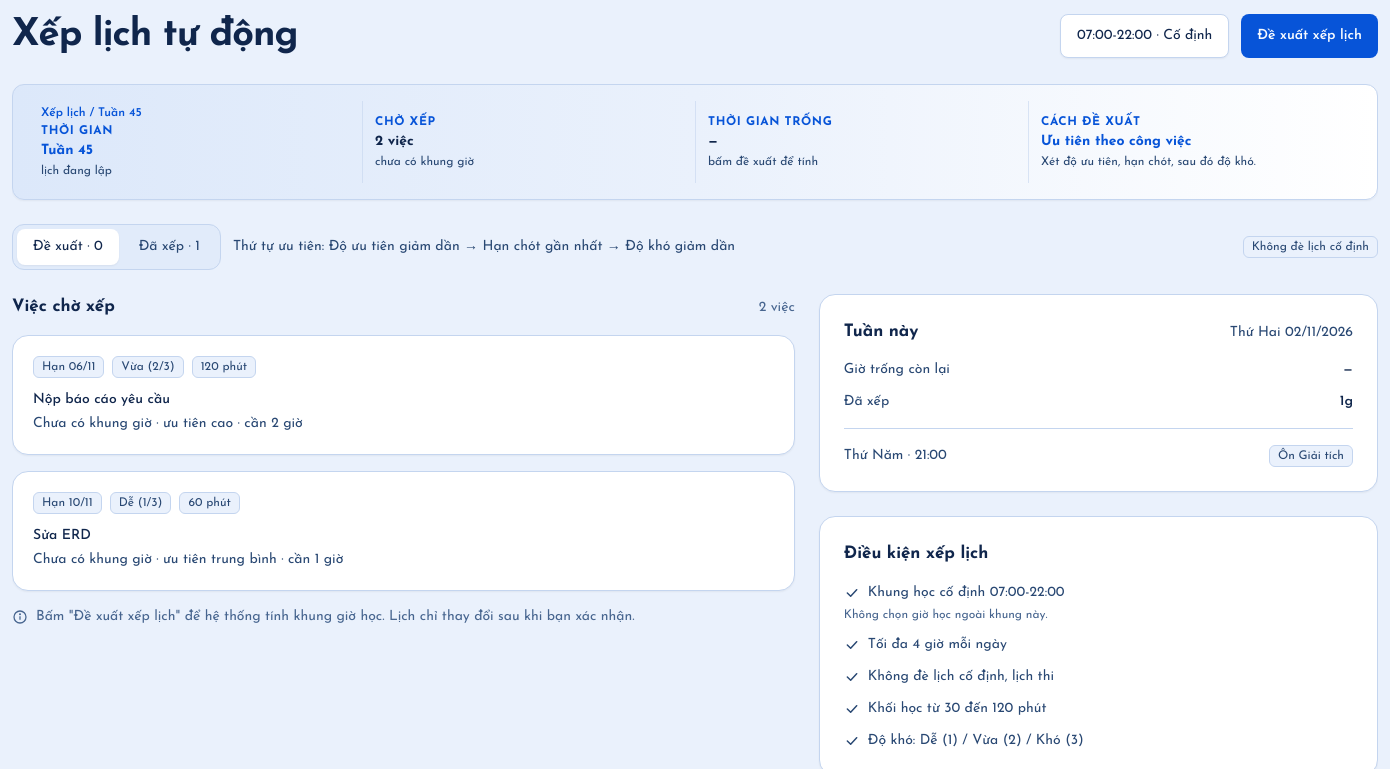
Test: SchedulerPage (TV3, Issue #146) › bấm vào thẻ thì mở panel Chi tiết đề xuất; đóng bằng nút X hoặc Esc
Check: the text "2 việc" in the row of "Việc chờ xếp" is shown, box [759, 298, 795, 318]
Click the button "Đề xuất xếp lịch" at {"x": 1310, "y": 36}, box [1241, 14, 1378, 58]
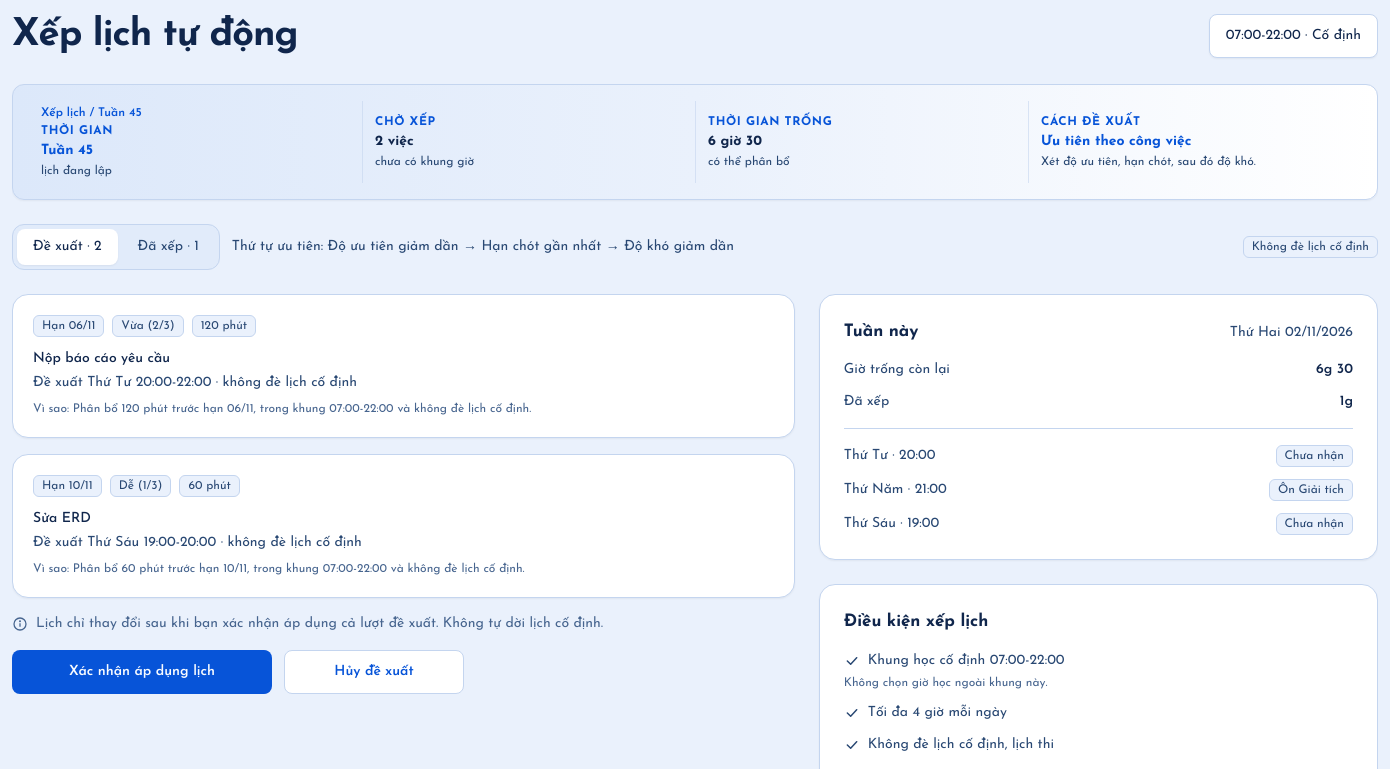
Click the button "Nộp báo cáo yêu cầu" at {"x": 69, "y": 326}, box [12, 294, 795, 438]
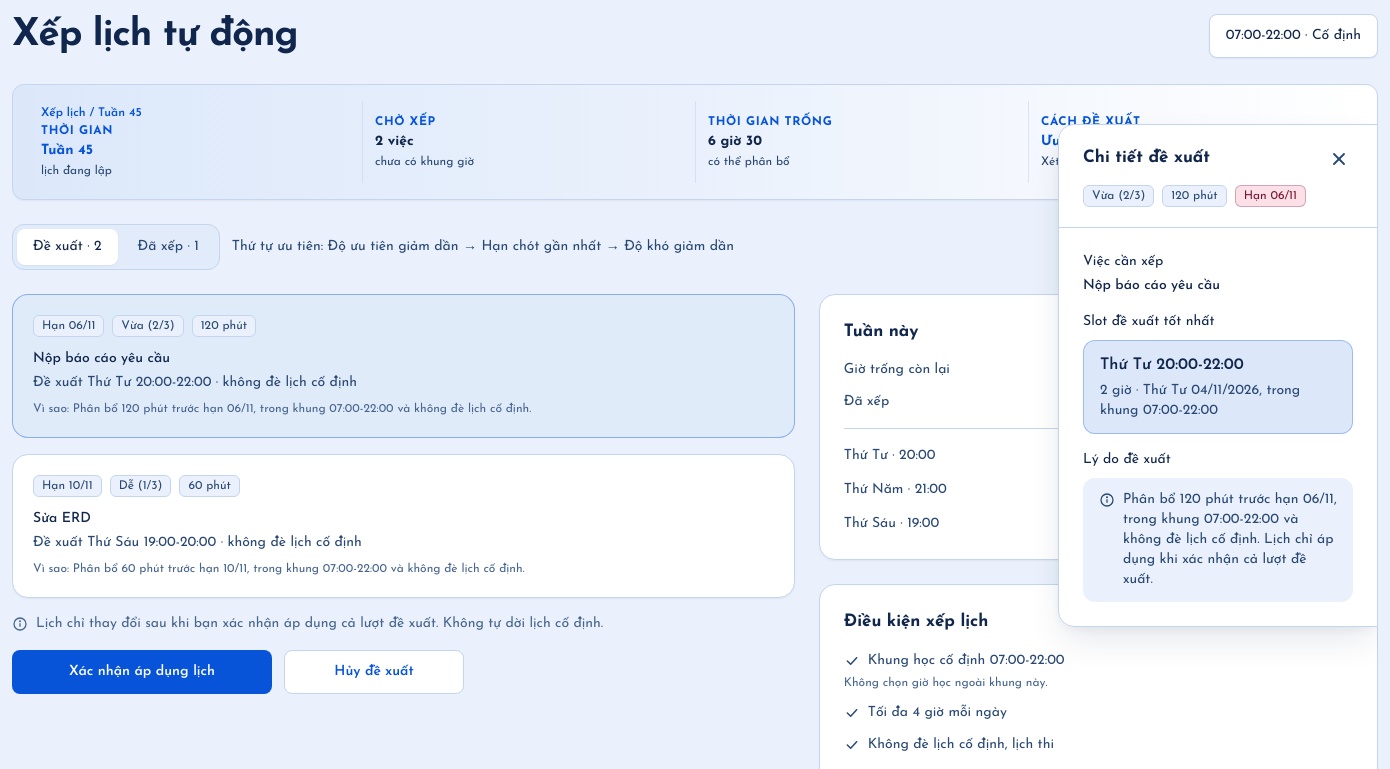
Check: the text "Thứ Tư 20:00-22:00" is shown, box [1100, 357, 1244, 373]
Check: the text "2 giờ · Thứ Tư 04/11/2026, trong khung 07:00-22:00" is shown, box [1100, 383, 1300, 418]
Check: the text "Hạn 06/11" below "Chi tiết đề xuất" is shown, box [1235, 185, 1306, 207]
Click the button named "Đóng chi tiết đề xuất" at {"x": 1339, "y": 159}, box [1325, 145, 1353, 173]
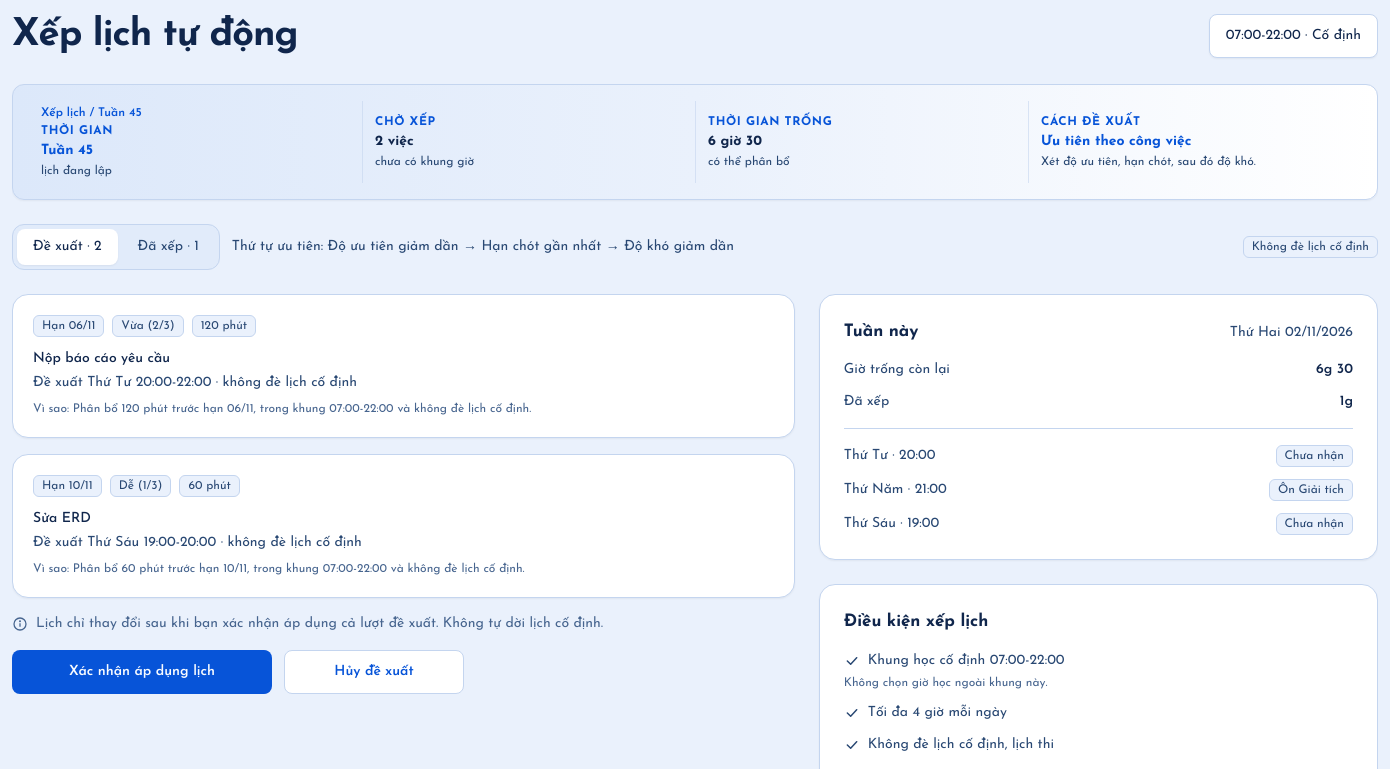
Check: the heading "Chi tiết đề xuất" is gone
Click the button "Nộp báo cáo yêu cầu" at {"x": 69, "y": 326}, box [12, 294, 795, 438]
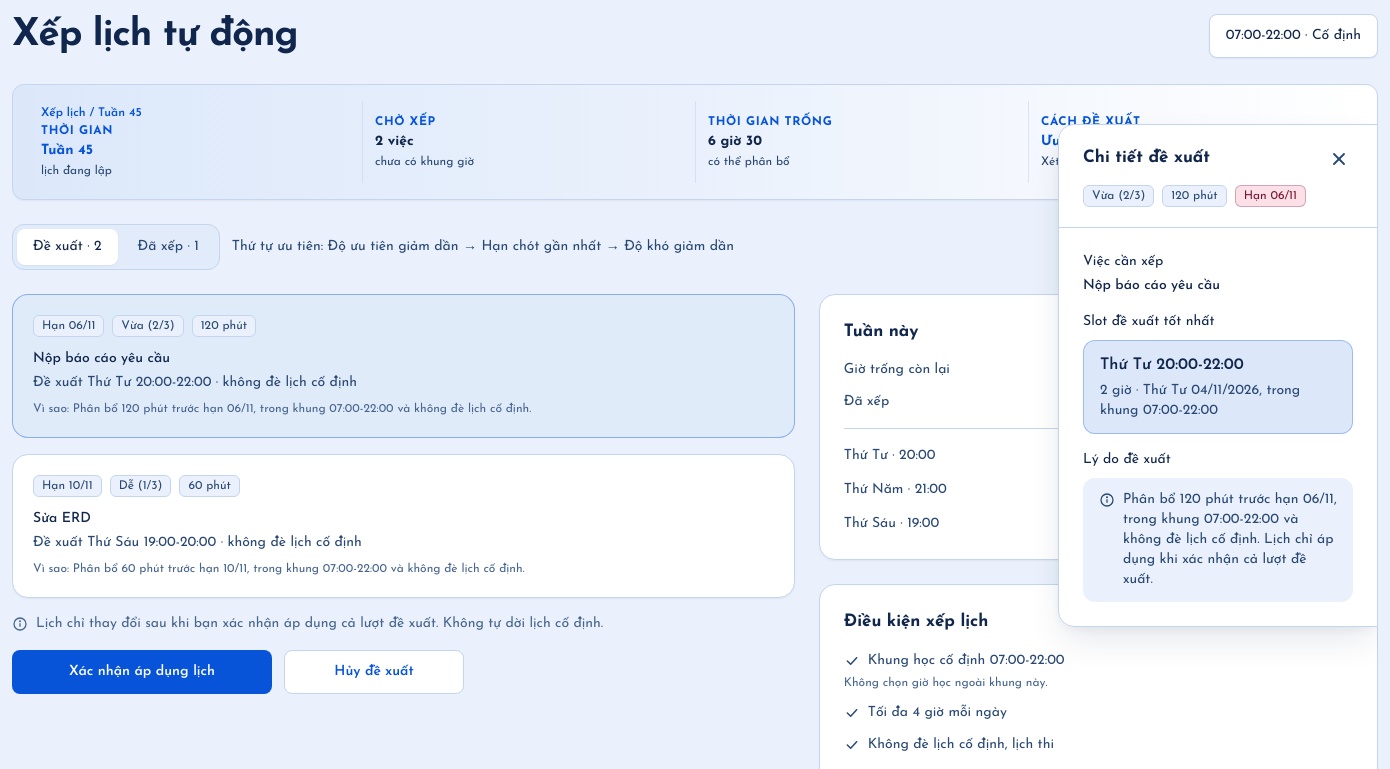
Press Escape
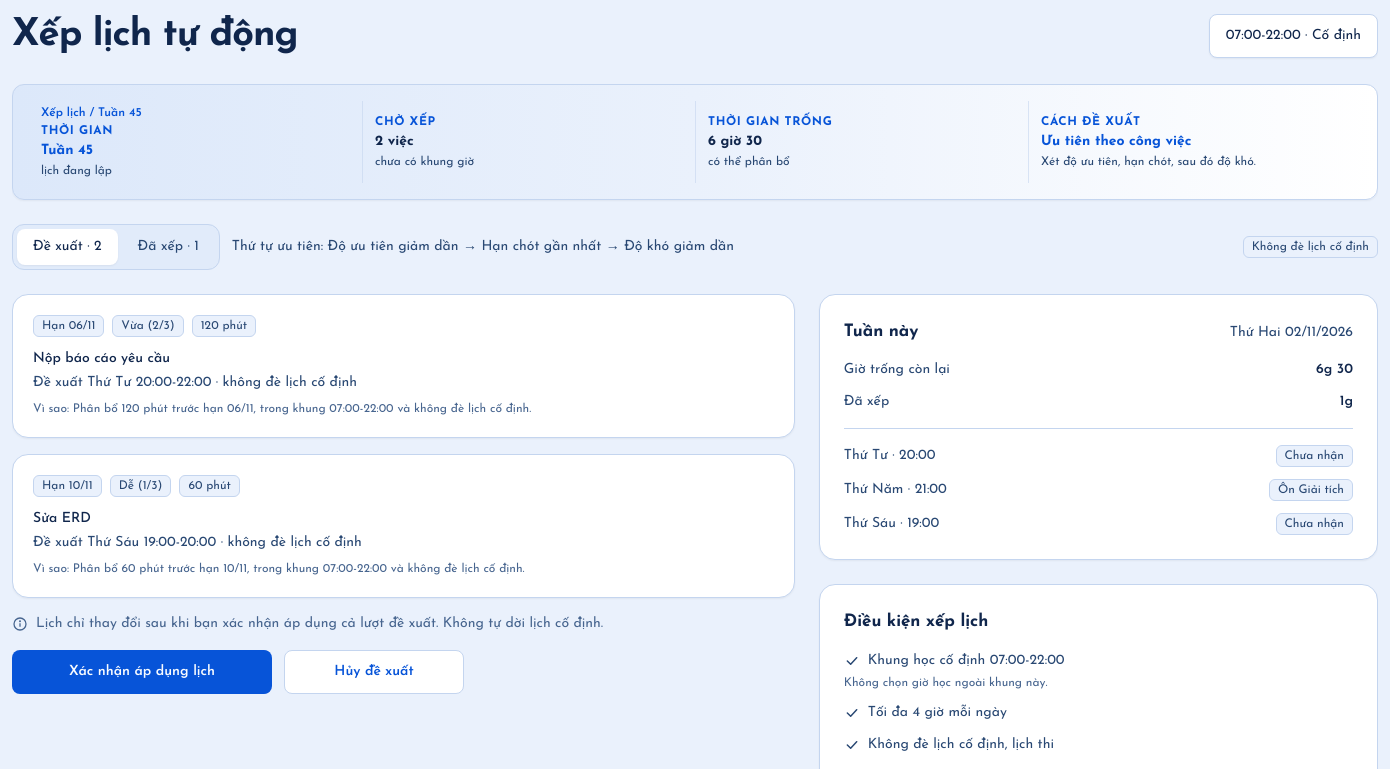
Check: the heading "Chi tiết đề xuất" is gone
